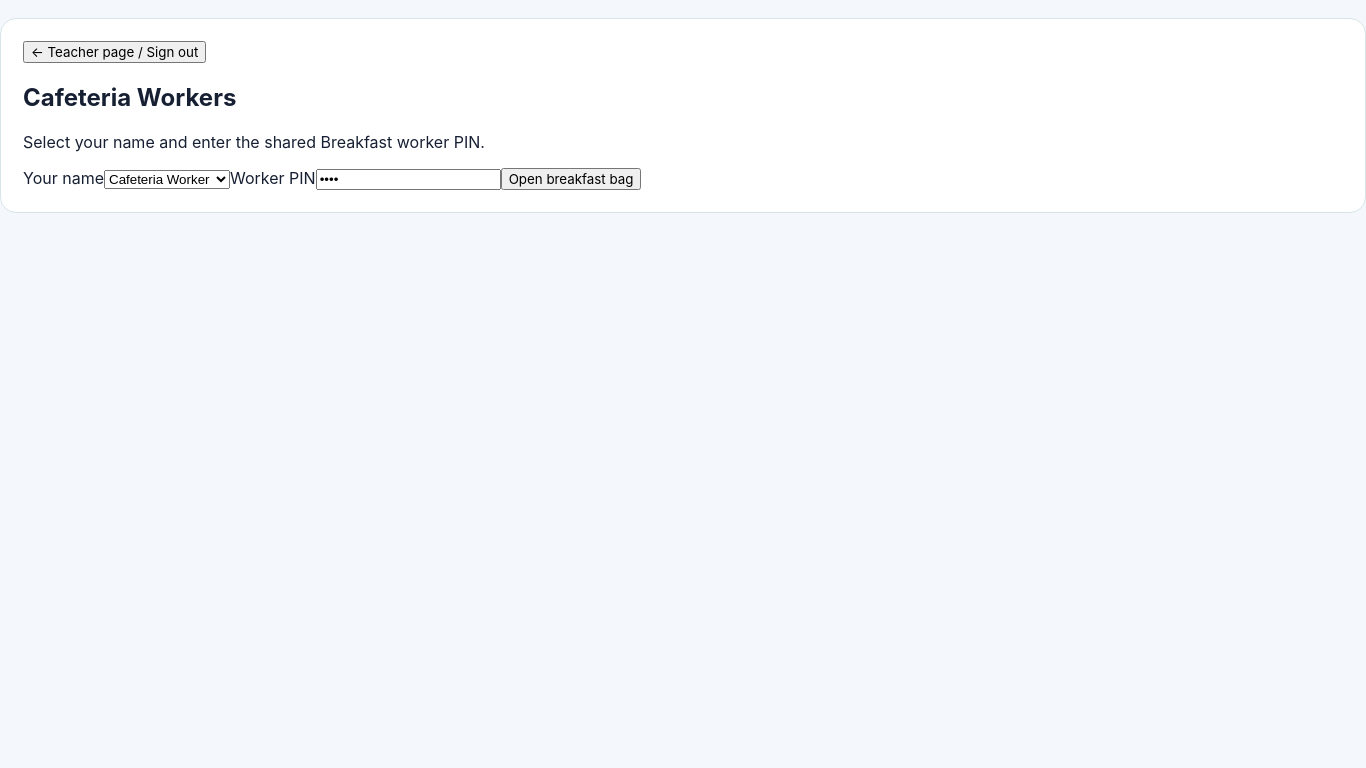
Test: worker signs into the scanned classroom and certifies exact menu counts; correction resets confirmation
The width and height of the screenshot is (1366, 768).
Earlier steps of the test are not shown.
Submit the form, box [23, 132, 641, 190]
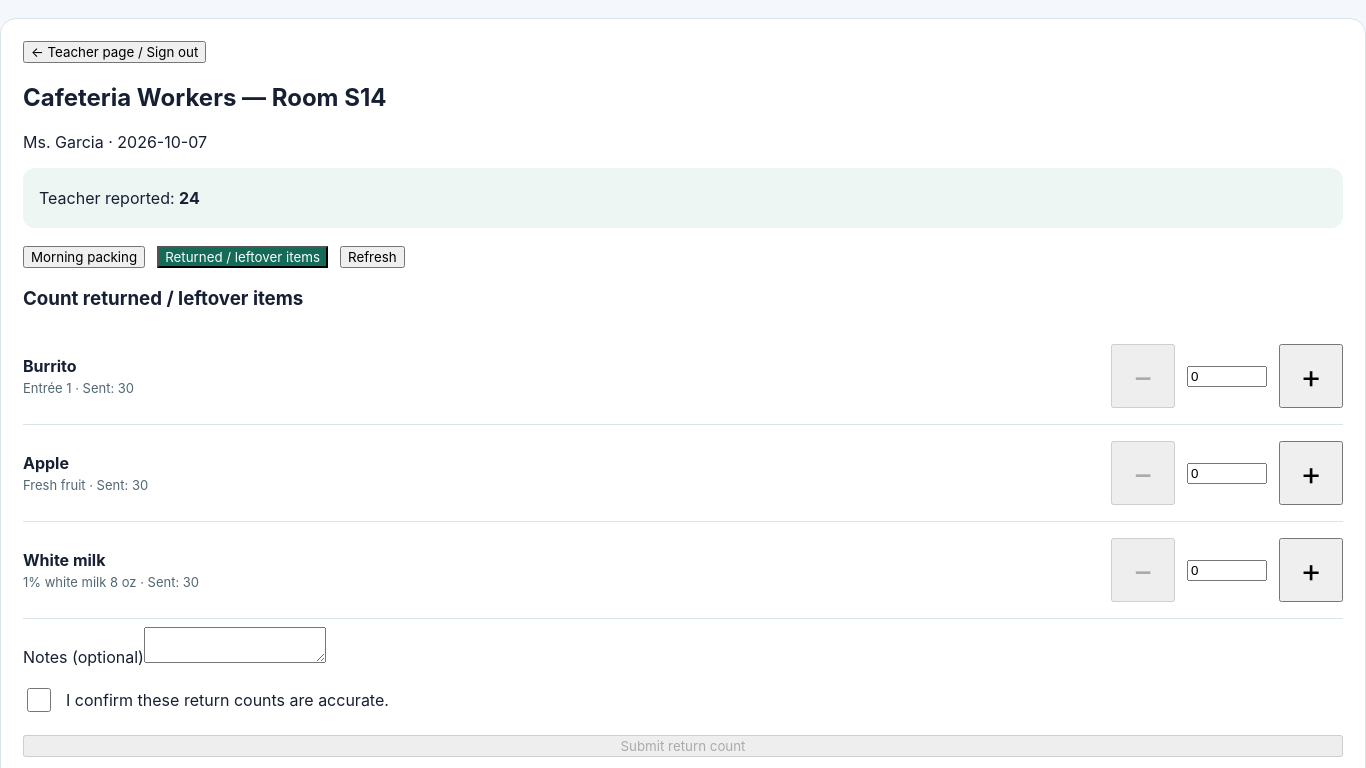
Check: the text "Cafeteria Workers — Room S14" is shown, box [23, 83, 386, 112]
Check: the dropdown is gone
Check: the text "Apple" is shown, box [23, 453, 69, 473]
Click the button "+" in the row of "1% white milk 8 oz".
click(1311, 570)  # box [1279, 538, 1343, 602]
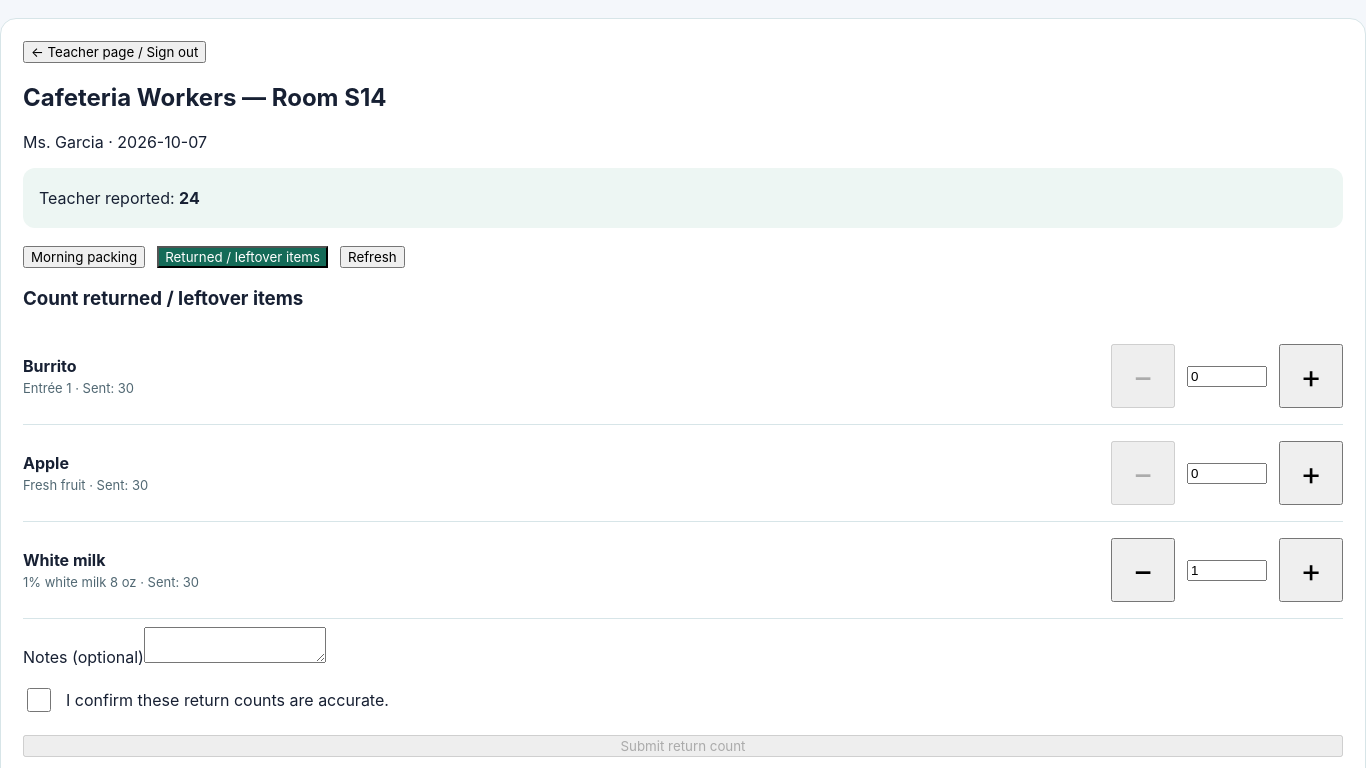
Click the checkbox labelled "I confirm these return counts are accurate.".
click(39, 700)  # box [27, 688, 51, 712]
(page scrolled)
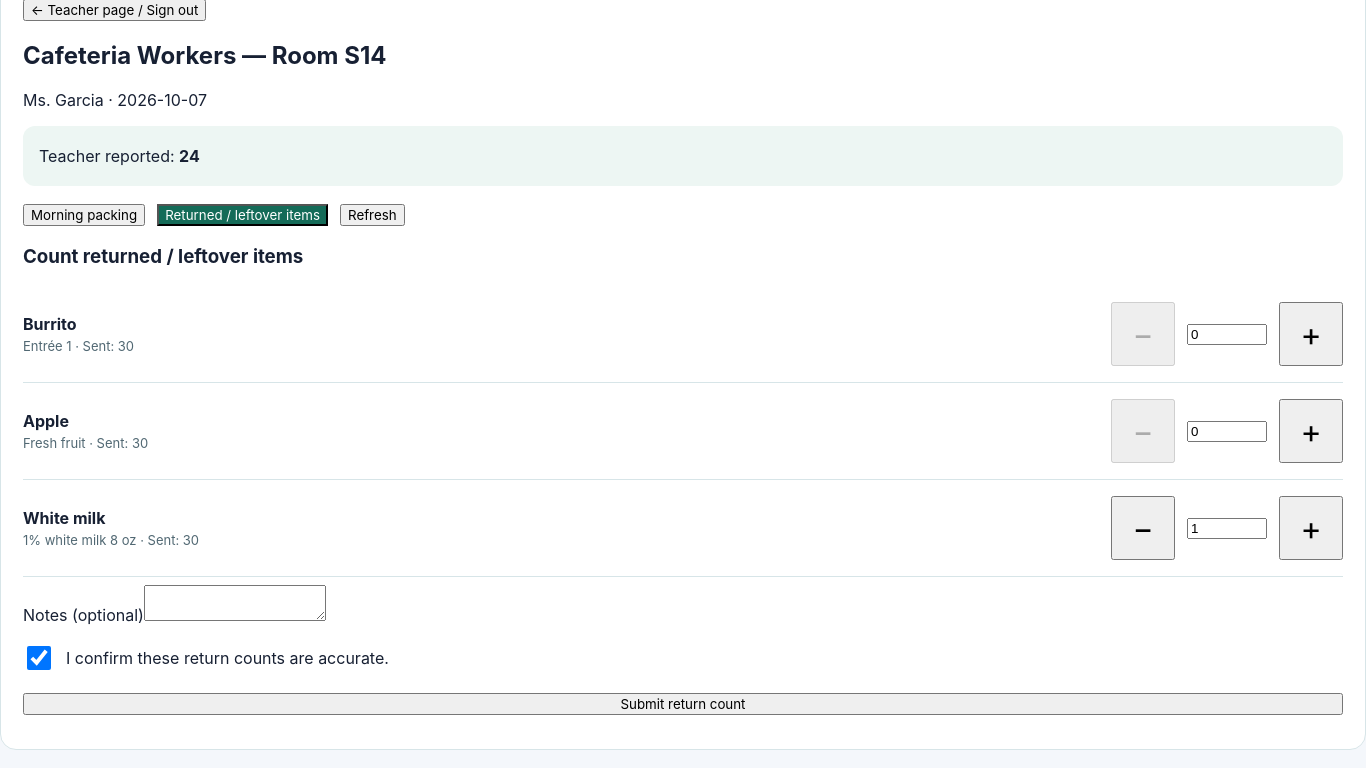
Check: the button "Submit return count" is enabled, box [23, 693, 1343, 715]
Submit the form
(page scrolled)
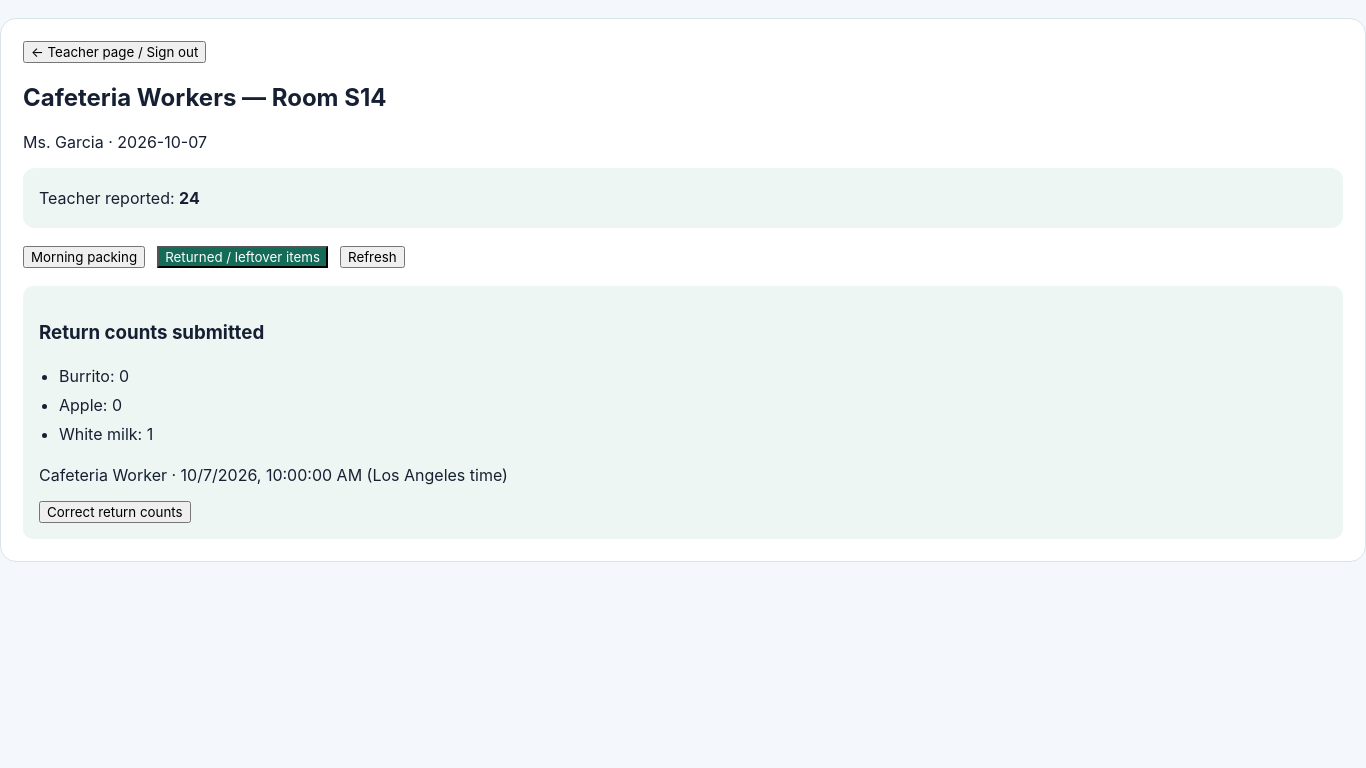
Check: the text "Cafeteria Worker" is shown, box [23, 83, 236, 112]
Check: the text "Return counts submitted" is shown, box [39, 320, 264, 344]
Click the button "Correct return counts".
click(115, 512)  # box [39, 501, 190, 523]
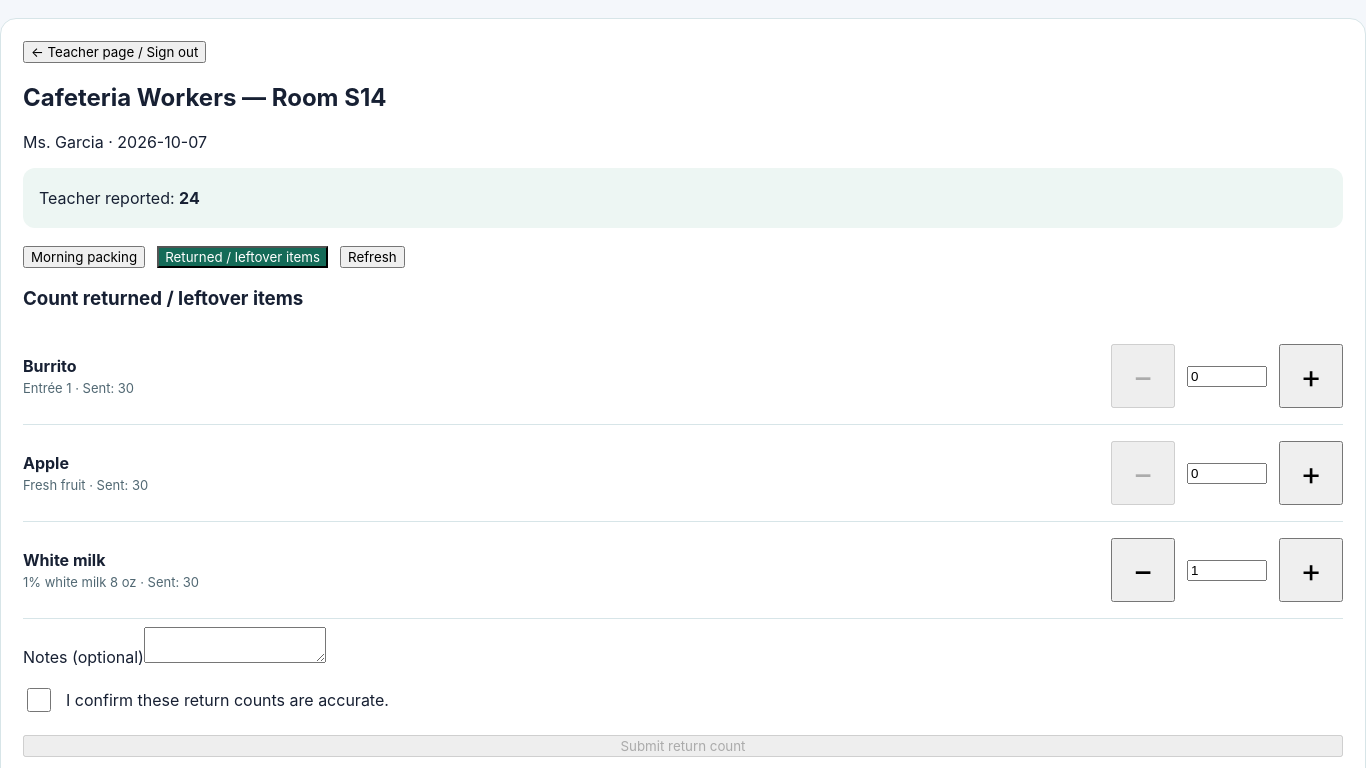
Check: the button "Submit return count" is disabled, box [23, 735, 1343, 757]
Click the button "−" in the row of "1% white milk 8 oz".
click(1143, 570)  # box [1111, 538, 1175, 602]
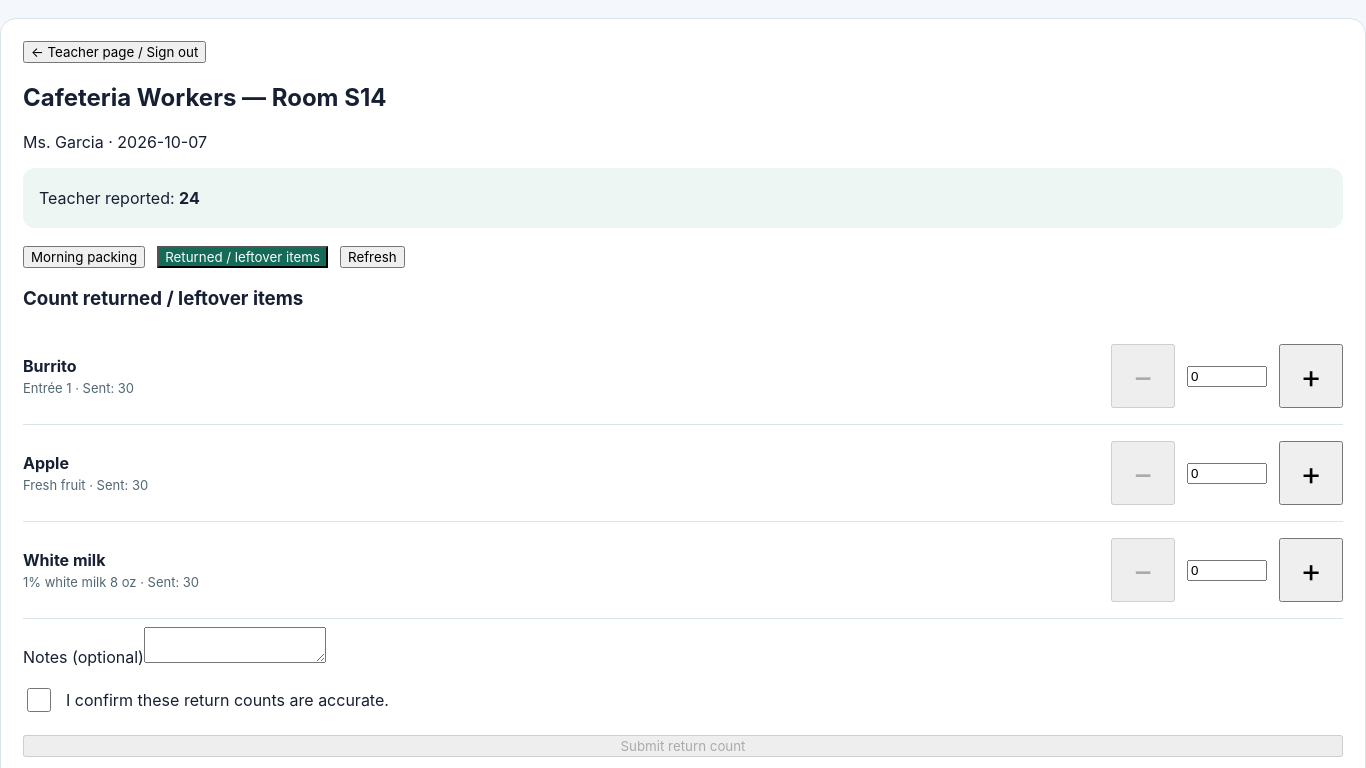
Check: the number field named "White milk quantity" holds "0", box [1187, 560, 1267, 581]
Check: the button "−" in the row of "1% white milk 8 oz" is disabled, box [1111, 538, 1175, 602]
